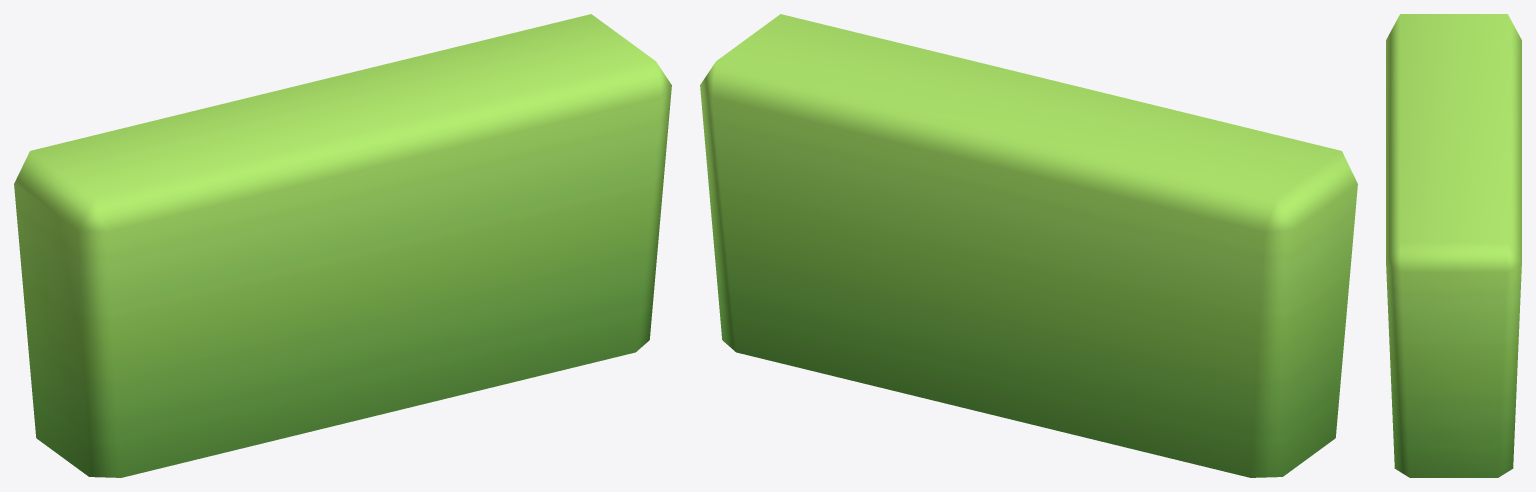
The model's file is city2-bush-01.glb.
3 views of the same model, side by side, from view 1: azimuth 30°, elevation 25°; view 2: azimuth 150°, elevation 25°; view 3: azimuth 270°, elevation 25° (orthographic). The views are drawn at different scales.
Parts seen in each view (by area): view 1: Bush_01; view 2: Bush_01; view 3: Bush_01.
Boxes of the visible parts, x1,y1,x2,y2 form: Bush_01: (14, 14, 671, 477); Bush_01: (700, 14, 1357, 477); Bush_01: (1386, 14, 1521, 477).
Bounding box in the file's own units: 2.12 × 0.9657 × 0.5039.
Materials: 1 (1 with a texture image).
